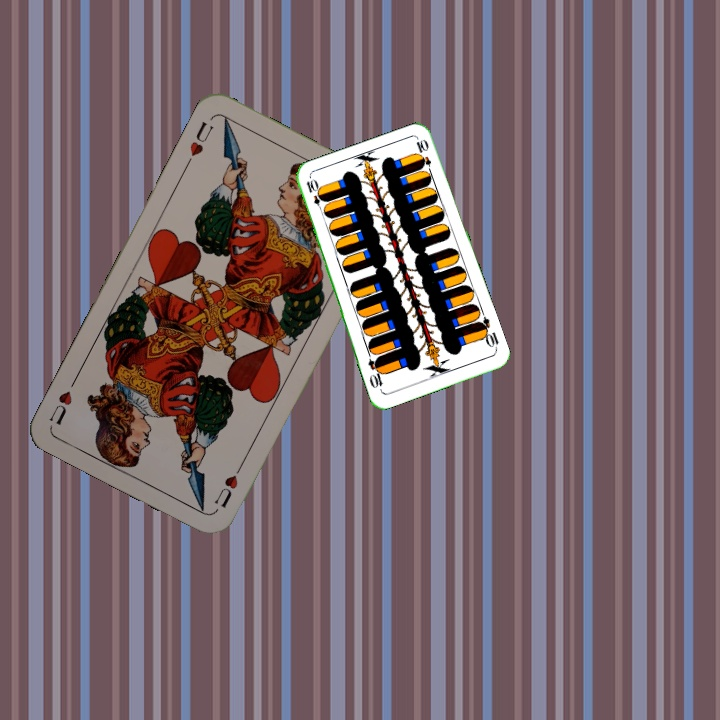E10: (474, 313, 501, 353), (302, 175, 327, 215)
HU: (210, 458, 247, 511), (181, 117, 216, 169)
